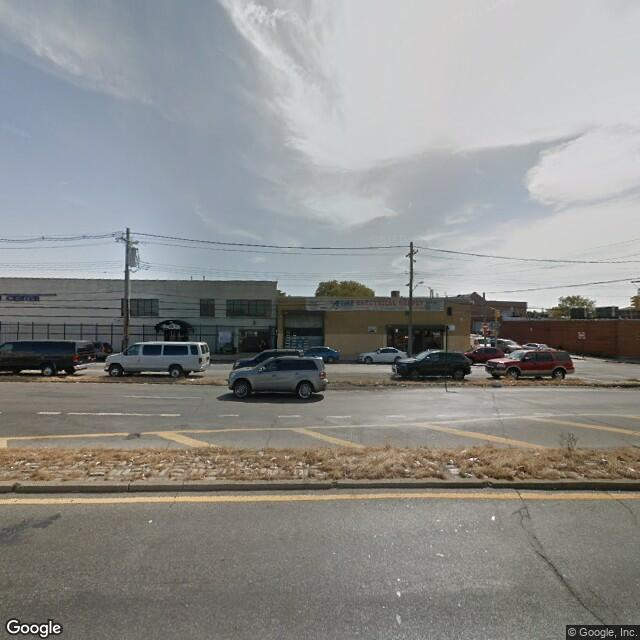litter: (141, 514, 181, 530), (11, 452, 38, 472), (594, 451, 621, 470), (195, 452, 221, 471), (462, 450, 494, 465), (447, 451, 465, 474), (493, 516, 515, 533), (185, 372, 204, 384), (369, 379, 390, 389), (71, 377, 97, 385), (250, 447, 267, 457)
